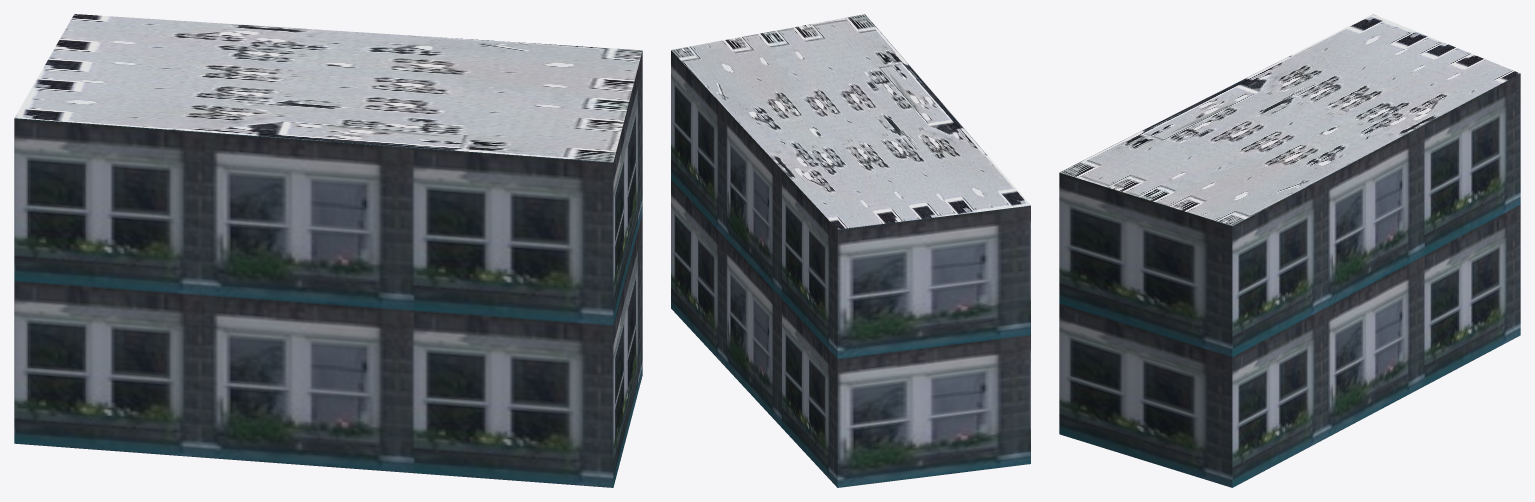
Rendered from ResTex__2947.fbx.
3 renders of one model, left to right at view 1: azimuth 30°, elevation 25°; view 2: azimuth 150°, elevation 25°; view 3: azimuth 270°, elevation 25°, orthographic. The views are drawn at different scales.
Visible parts, largest first — view 1: CityEngineMaterial_11_m, CityEngineMaterial_2_m; view 2: CityEngineMaterial_11_m, CityEngineMaterial_2_m; view 3: CityEngineMaterial_11_m, CityEngineMaterial_2_m.
Part boxes in pixels (x1,y1,x2,y2): CityEngineMaterial_11_m: [14, 51, 642, 487]; CityEngineMaterial_2_m: [14, 14, 642, 162]; CityEngineMaterial_11_m: [671, 50, 1030, 487]; CityEngineMaterial_2_m: [671, 14, 1030, 229]; CityEngineMaterial_11_m: [1059, 74, 1520, 487]; CityEngineMaterial_2_m: [1059, 14, 1520, 225].
Bounding box in the file's own units: 10.43 × 6 × 9.59.
Materials: 2 (2 with a texture image).
